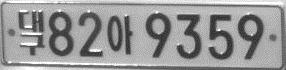2: (77, 10, 103, 57)
3: (175, 13, 202, 59)
5: (206, 13, 234, 60)
8: (47, 10, 74, 57)
9: (236, 12, 264, 59), (144, 11, 171, 58)
대구_V: (17, 9, 45, 56)
아: (106, 14, 133, 55)
